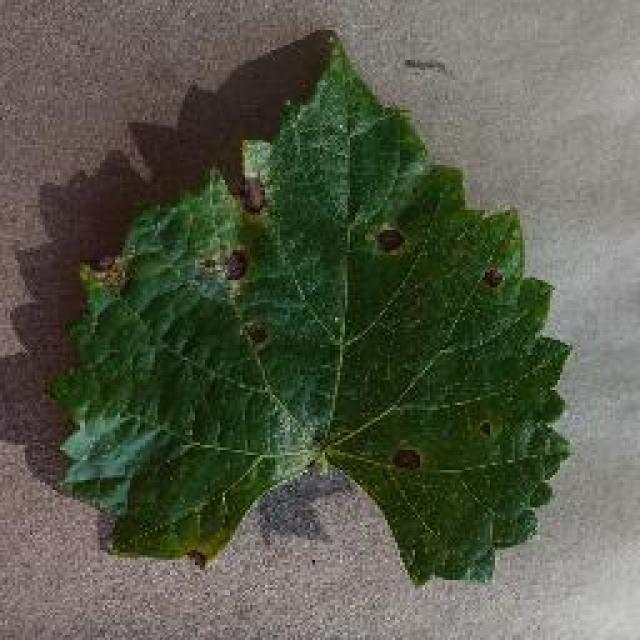Grape___Black_rot: (46, 28, 580, 594)
